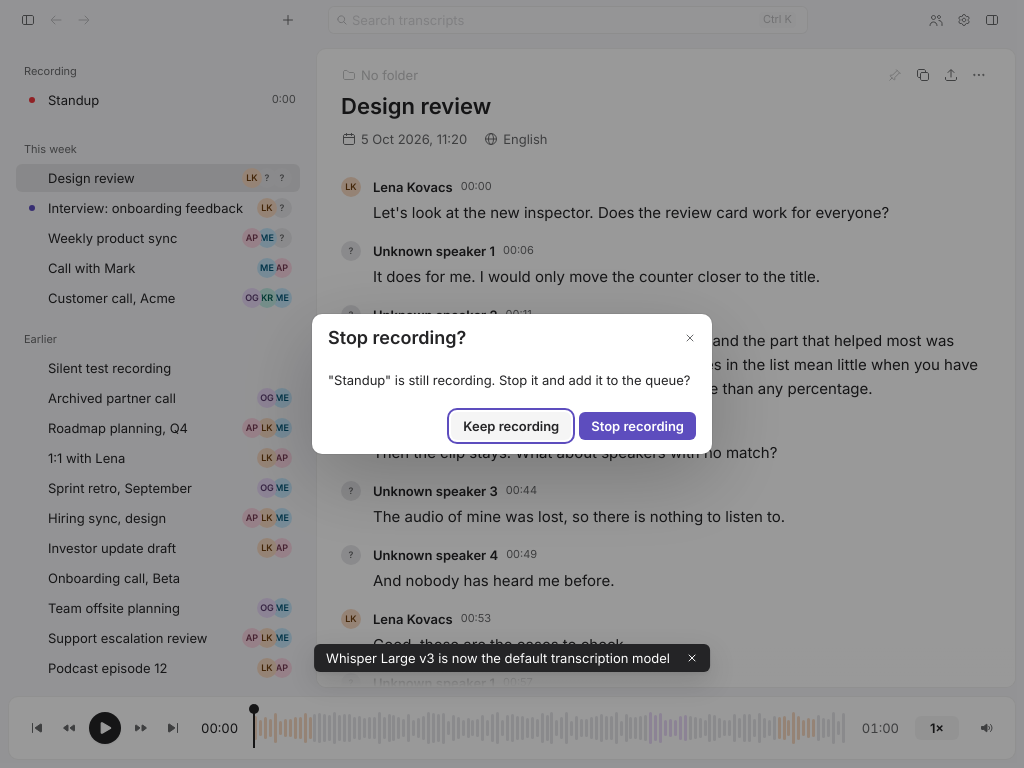
Keep recording leaves it running
The width and height of the screenshot is (1024, 768).
Click the button "Keep recording".
click(511, 426)  # box [451, 412, 571, 440]
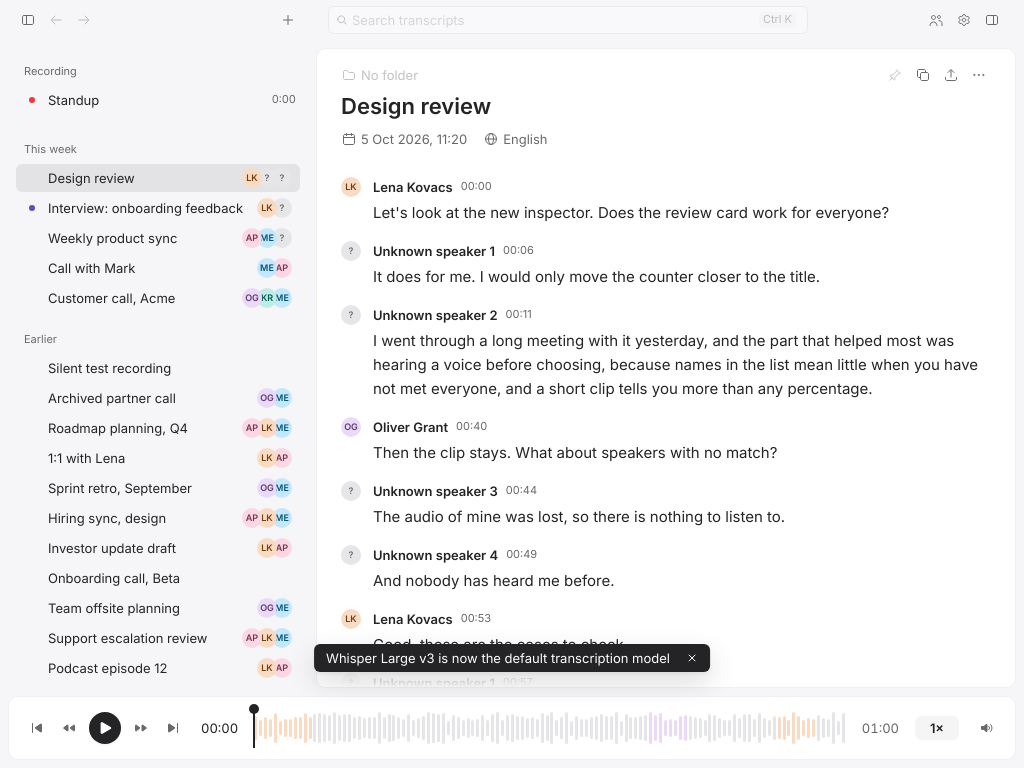
Check: the heading "Stop recording?" is gone
